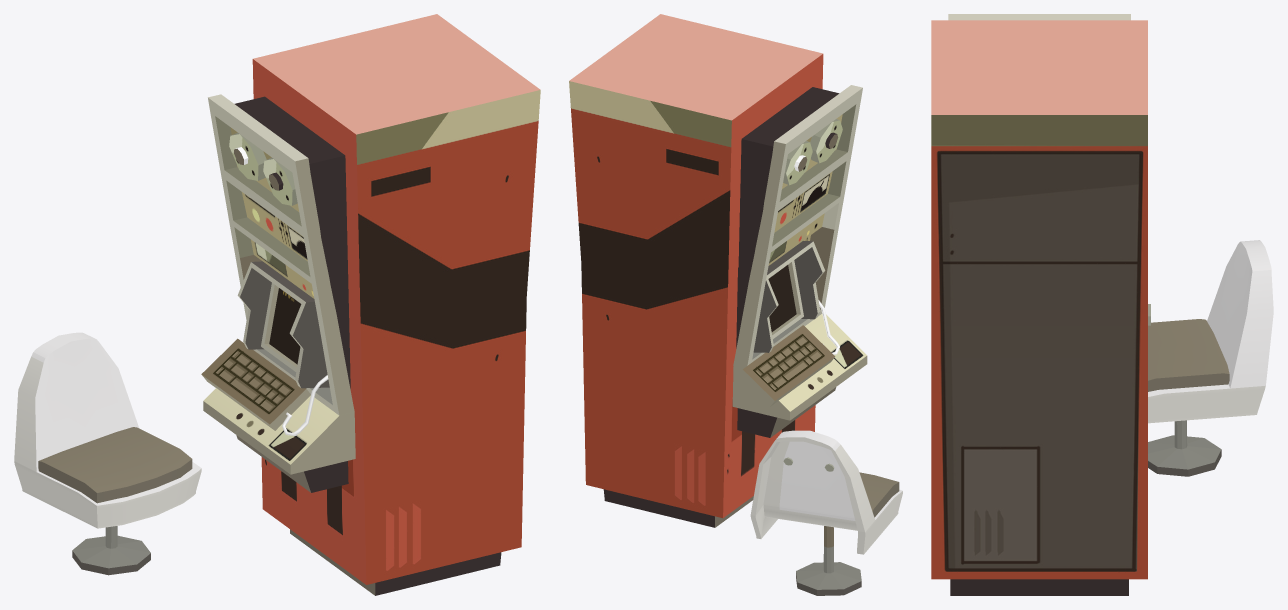
File: mainframe_computer.glb
3 views of the same model, side by side, from view 1: azimuth 30°, elevation 25°; view 2: azimuth 150°, elevation 25°; view 3: azimuth 270°, elevation 25° (orthographic). The views are drawn at different scales.
Visible parts, largest first — view 1: Object_16, Object_10, Object_20, Object_23, Object_24, Object_21, Object_22, Object_11, Object_15, Object_7, Object_6, Object_14 (+7 smaller); view 2: Object_16, Object_10, Object_23, Object_24, Object_21, Object_22, Object_20, Object_7, Object_15, Object_6, Object_14, Object_17 (+8 smaller); view 3: Object_16, Object_10, Object_20, Object_11, Object_21, Object_23, Object_18, Object_9, Object_19, Object_15.
Part boxes in pixels (x1,y1,x2,y2): Object_16: (252,59,540,584); Object_10: (253,14,540,134); Object_20: (31,332,201,505); Object_23: (235,96,501,595); Object_24: (201,158,355,474); Object_21: (14,356,201,528); Object_22: (208,98,339,415); Object_11: (39,427,191,492); Object_15: (72,261,329,575); Object_7: (201,338,305,424); Object_6: (203,388,338,464); Object_14: (215,116,310,276); Object_16: (569,54,823,518); Object_10: (569,14,822,120); Object_23: (603,87,839,527); Object_24: (732,141,867,420); Object_21: (750,437,902,554); Object_22: (747,88,862,365); Object_20: (776,430,902,520); Object_7: (743,325,835,400); Object_15: (753,241,861,595); Object_6: (779,314,866,411); Object_14: (772,104,856,246); Object_17: (768,114,842,265); Object_16: (931,115,1147,579); Object_10: (931,20,1147,114); Object_20: (1148,240,1273,396); Object_11: (1148,319,1229,380); Object_21: (1148,386,1265,423); Object_23: (950,579,1128,595); Object_18: (1148,420,1221,469); Object_9: (948,14,1130,20); Object_19: (1148,373,1229,391); Object_15: (1148,449,1221,476).
Bounding box in the file's own units: 1.97 × 2.39 × 1.47.
28 materials, 7 textured.
